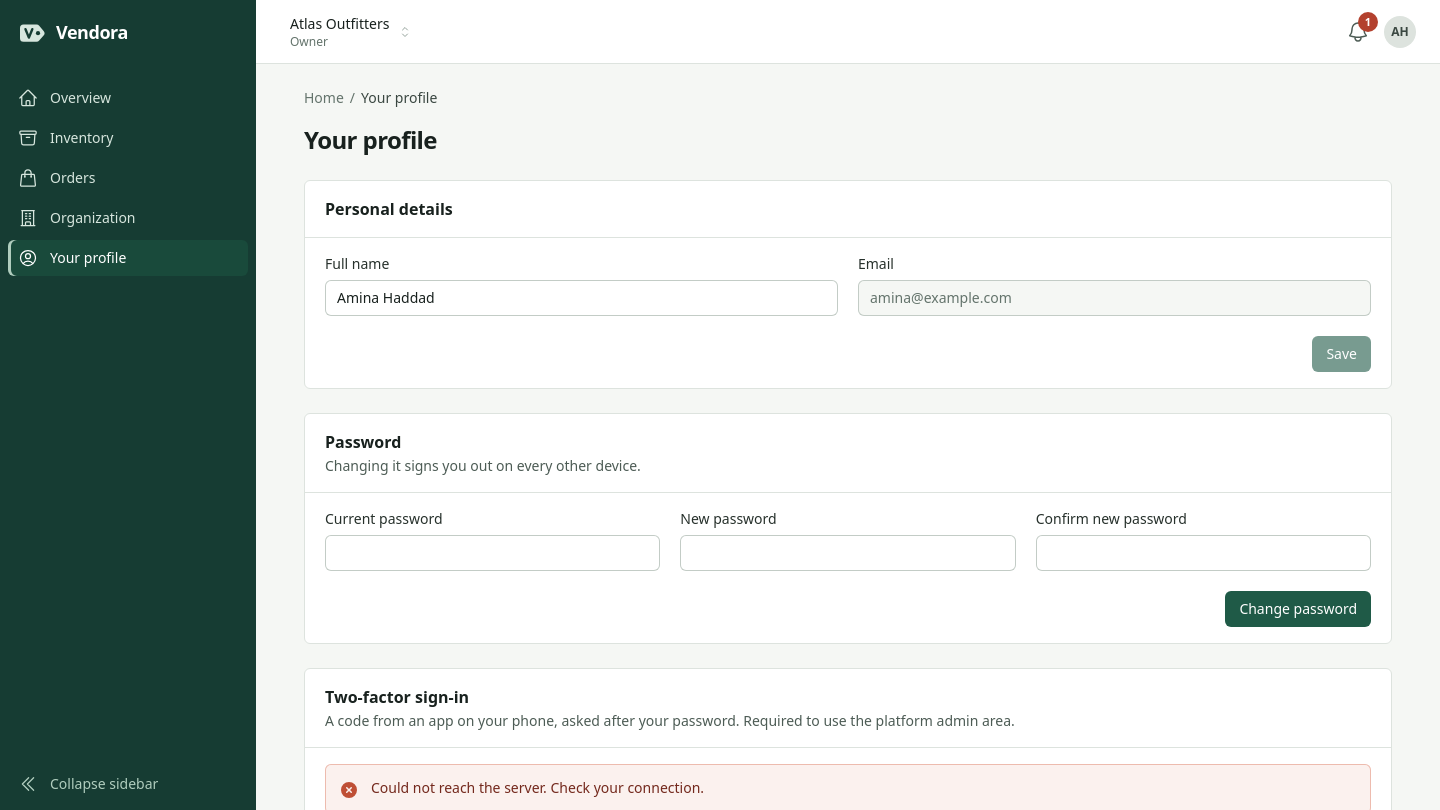
Test: notification bell › shows the unread count and lists the latest notifications in words
The width and height of the screenshot is (1440, 810).
Click the button named "Notifications": click(1358, 32) 1340,14 -> 1376,50
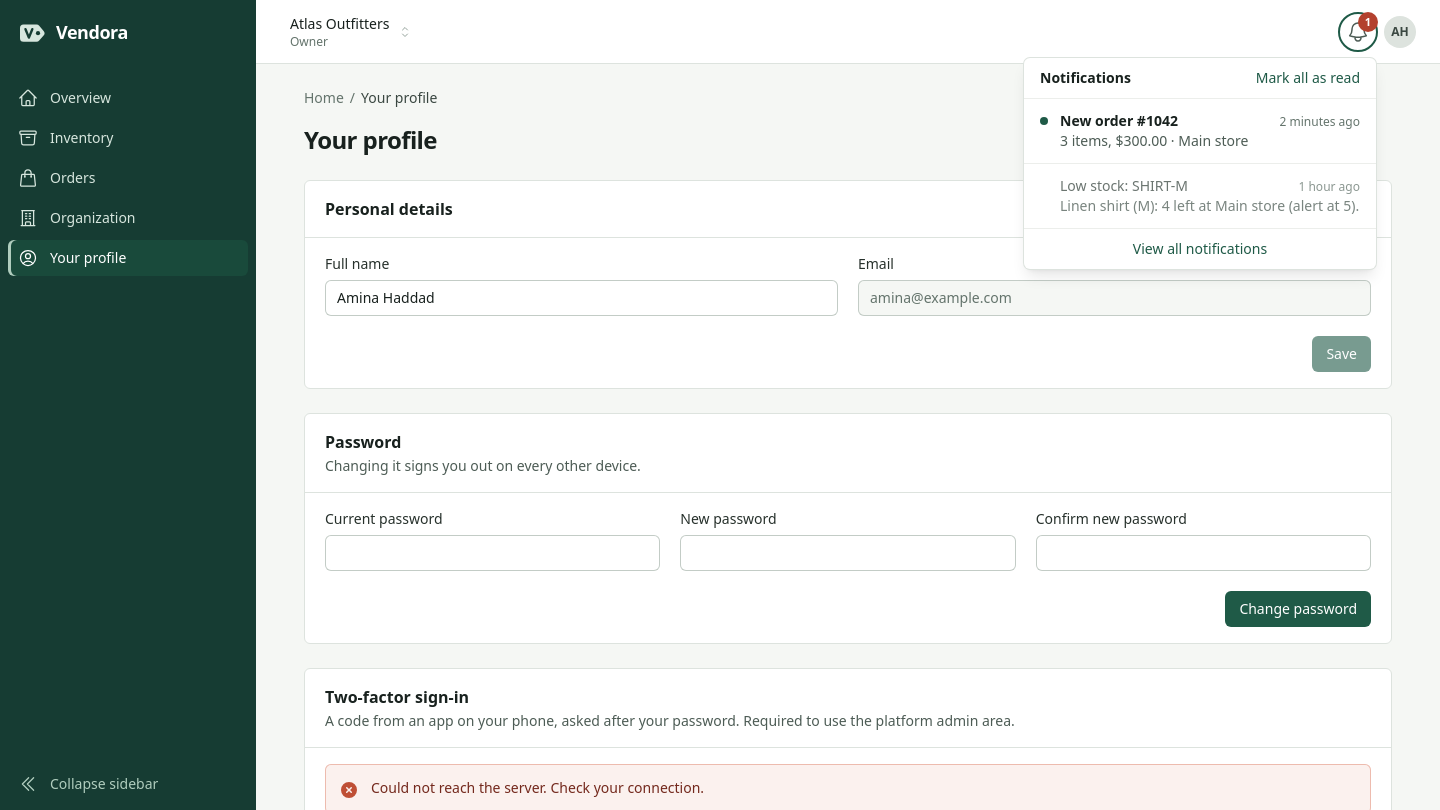
Now the link "New order #1042 2 minutes ago 3 items, $300.00 · Main store" is shown, box 1024,98 -> 1376,162
